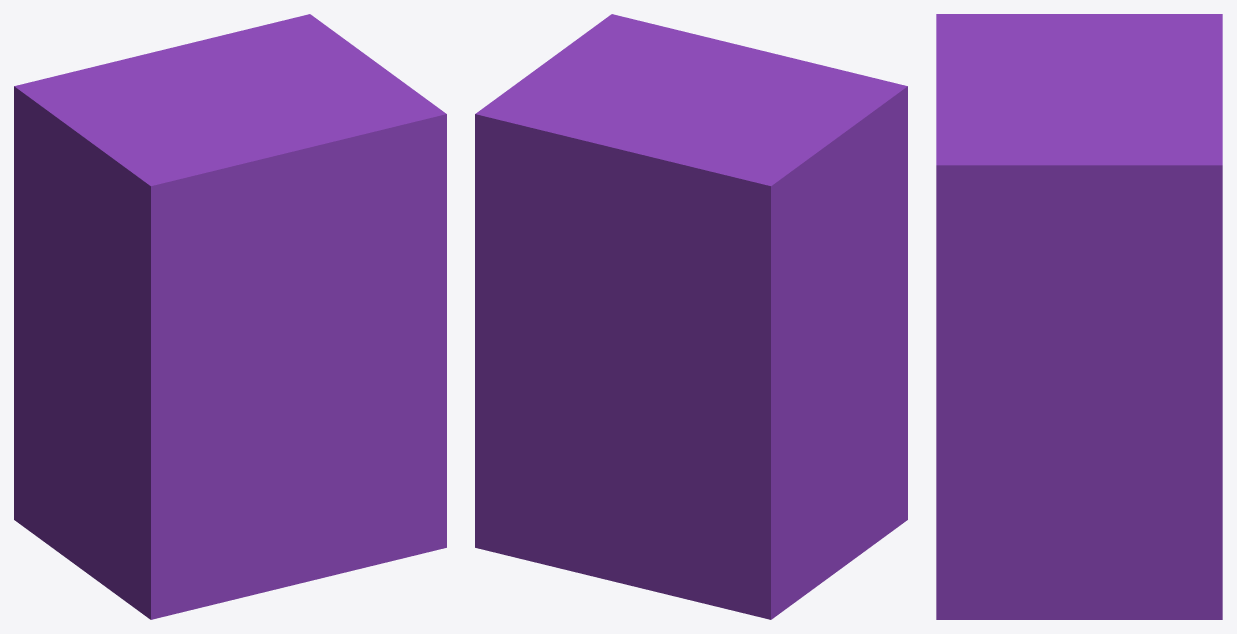
3 views of the same model, side by side, from view 1: azimuth 30°, elevation 25°; view 2: azimuth 150°, elevation 25°; view 3: azimuth 270°, elevation 25° (orthographic). The views are drawn at different scales.
Parts seen in each view (by area): view 1: n; view 2: n; view 3: n.
Boxes of the visible parts, box(x1,y1,x2,y2) form: n: box(14, 14, 446, 619); n: box(475, 14, 907, 619); n: box(936, 14, 1222, 619).
Size of the model in its own units: 1 by 1.4 by 0.8.
